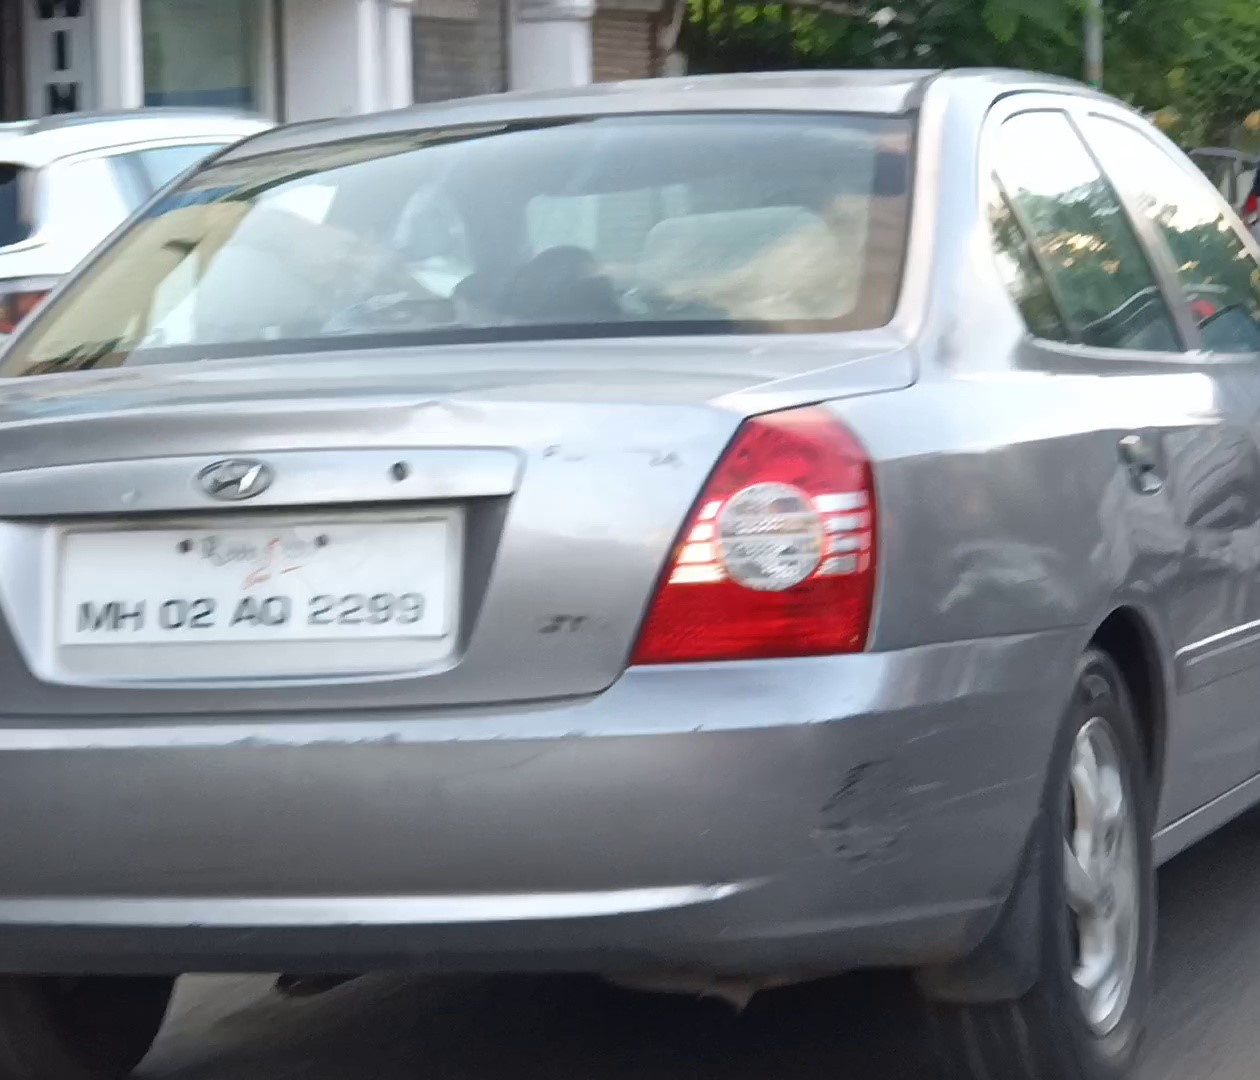MH02AQ2299: (57, 517, 451, 642)
